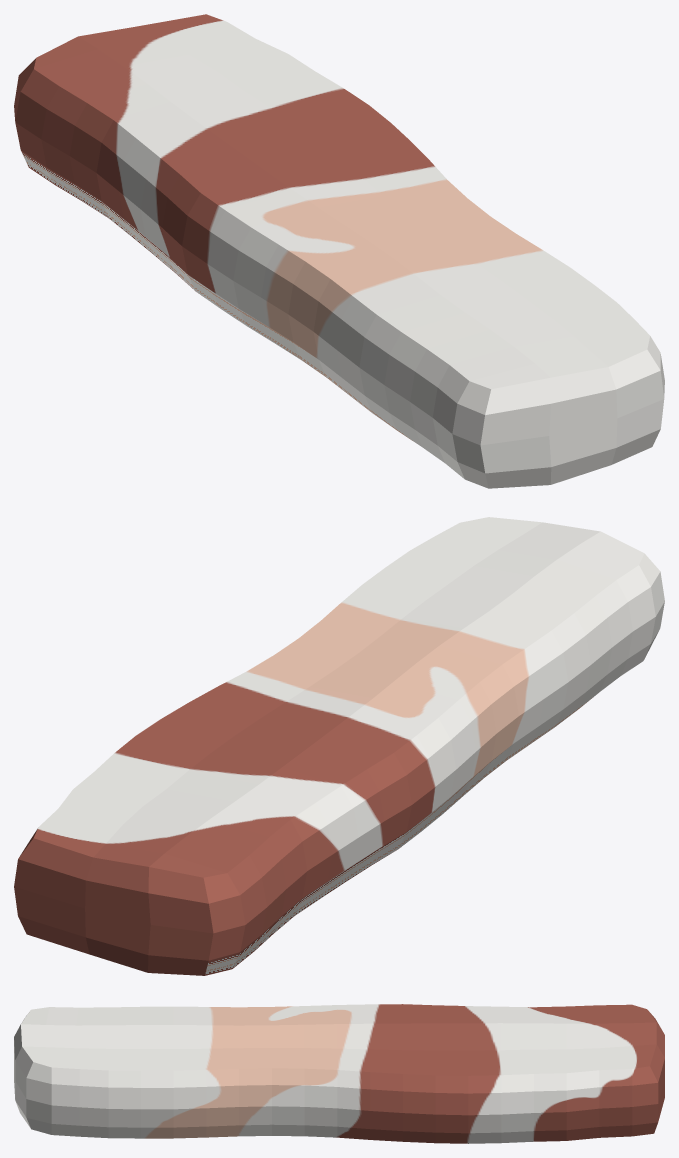
The model's file is meat_piece_v1.fbx.
3 views of the same model, one above another, from view 1: azimuth 30°, elevation 25°; view 2: azimuth 150°, elevation 25°; view 3: azimuth 270°, elevation 25° (orthographic). The views are drawn at different scales.
Parts seen in each view (by area): view 1: meat_piece1; view 2: meat_piece1; view 3: meat_piece1.
Part boxes in pixels (box(x1,y1,x2,y2)): meat_piece1: box(14, 14, 664, 488); meat_piece1: box(14, 517, 664, 975); meat_piece1: box(14, 1004, 664, 1143).
Size of the model in its own units: 5.46 by 2.17 by 17.82.
